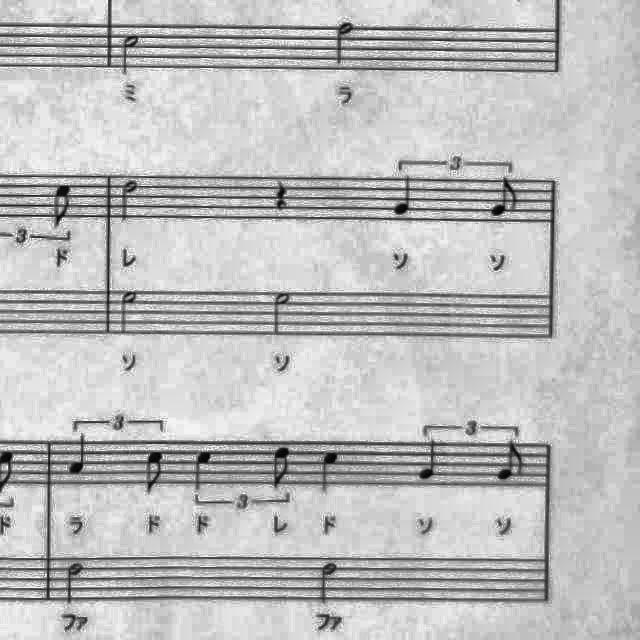Eighth-note: (492, 438, 530, 487), (486, 172, 522, 222), (140, 445, 172, 499), (267, 441, 297, 492), (50, 179, 78, 231)
Half-note: (330, 15, 360, 69), (267, 286, 297, 340), (314, 558, 342, 610), (60, 558, 90, 606), (115, 286, 142, 338), (116, 28, 144, 78), (115, 177, 142, 227)
Quarter-note: (188, 446, 218, 498), (388, 170, 420, 218), (316, 444, 344, 496), (415, 438, 445, 486), (63, 432, 93, 480)
Quarter-rest: (268, 175, 296, 217)
